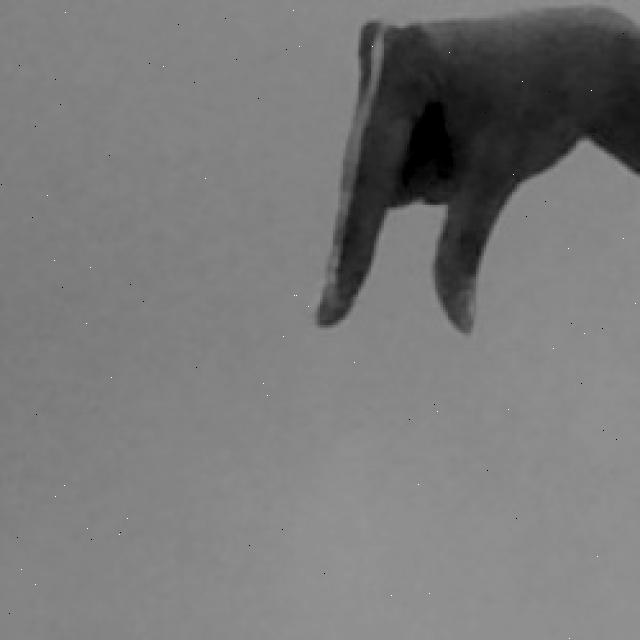Q: (310, 0, 640, 346)
